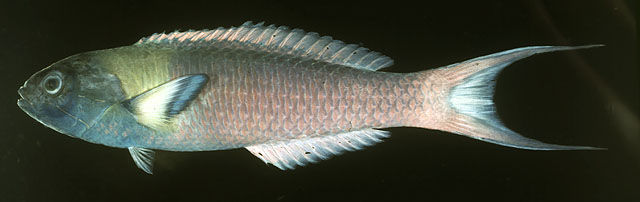fish: (16, 21, 605, 175)
